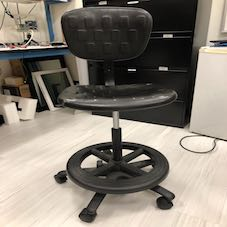chair: (41, 6, 187, 222)
